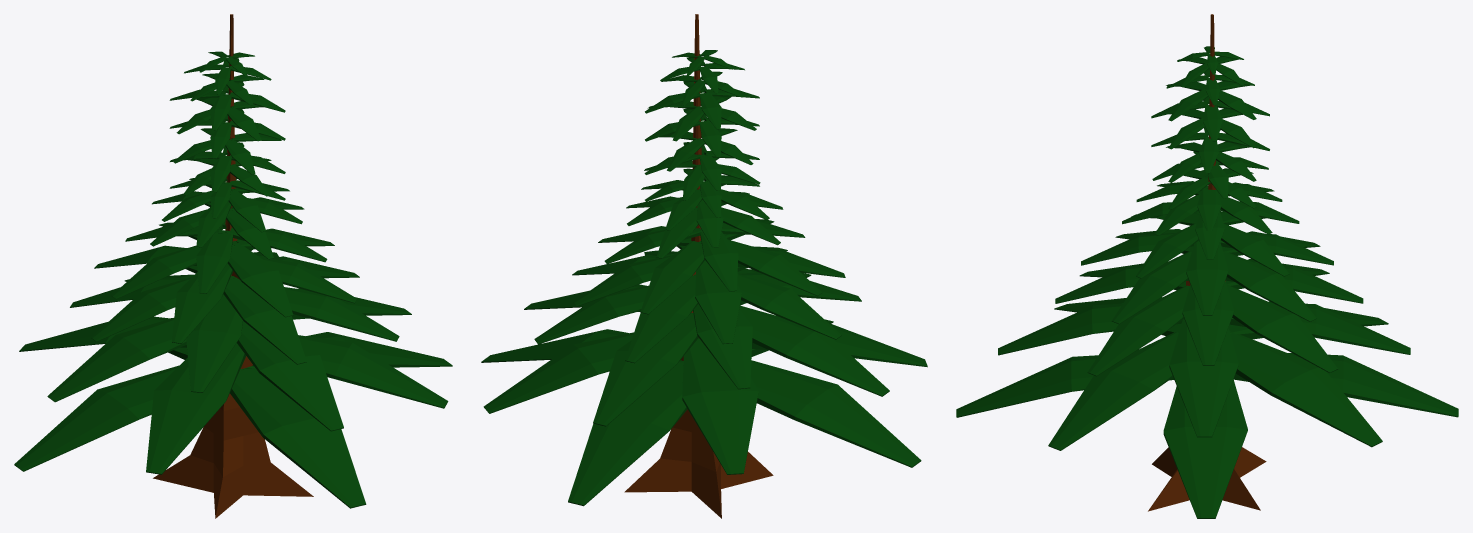
Rendered from drzewko 4.fbx.
3 views of the same model, side by side, from view 1: azimuth 30°, elevation 25°; view 2: azimuth 150°, elevation 25°; view 3: azimuth 270°, elevation 25° (orthographic).
Visible parts, largest first — view 1: Cube.032, Cube, Cube.049; view 2: Cube.032, Cube, Cube.049; view 3: Cube.032, Cube.
Part boxes in pixels (x1,y1,x2,y2): Cube.032: (14,51,452,508); Cube: (153,271,313,518); Cube.049: (225,14,237,241); Cube.032: (481,50,927,506); Cube: (624,272,773,518); Cube.049: (691,14,701,241); Cube.032: (956,46,1458,518); Cube: (1148,280,1266,511).
Bounding box in the file's own units: 656 × 687 × 662.
